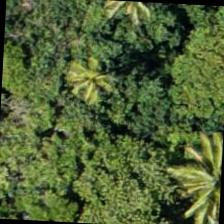Kelapa_Sawit: (45, 32, 140, 127)
